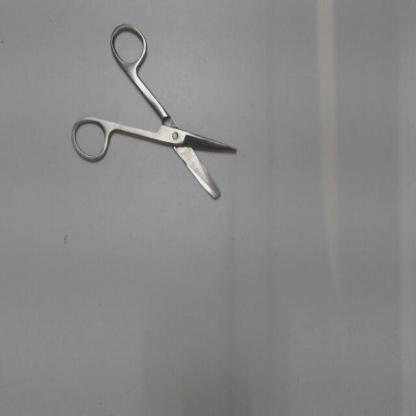Dressing Scissors: (62, 14, 246, 210)
